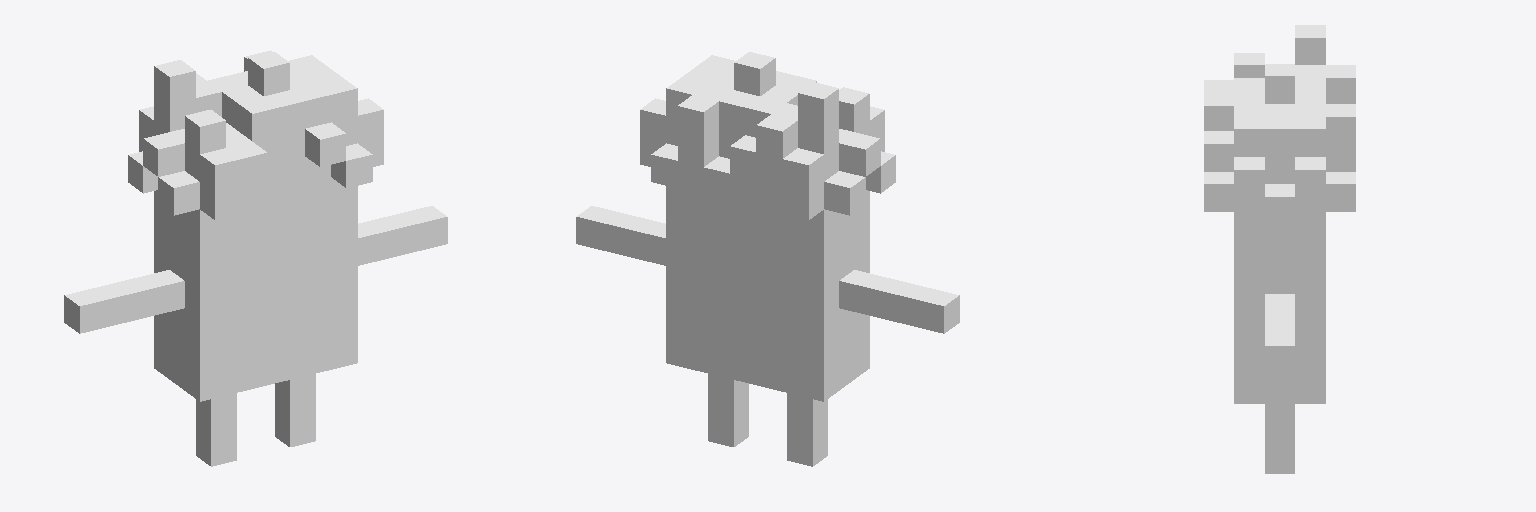
The model's file is runner(1).obj.
3 renders of one model, left to right at view 1: azimuth 30°, elevation 25°; view 2: azimuth 150°, elevation 25°; view 3: azimuth 270°, elevation 25°, orthographic.
Parts seen in each view (by area): view 1: runner(1); view 2: runner(1); view 3: runner(1).
Part boxes in pixels (x1,y1,x2,y2): runner(1): (64, 50, 447, 466); runner(1): (576, 52, 959, 466); runner(1): (1204, 25, 1355, 473).
Bounding box in the file's own units: 14 × 14 × 5.